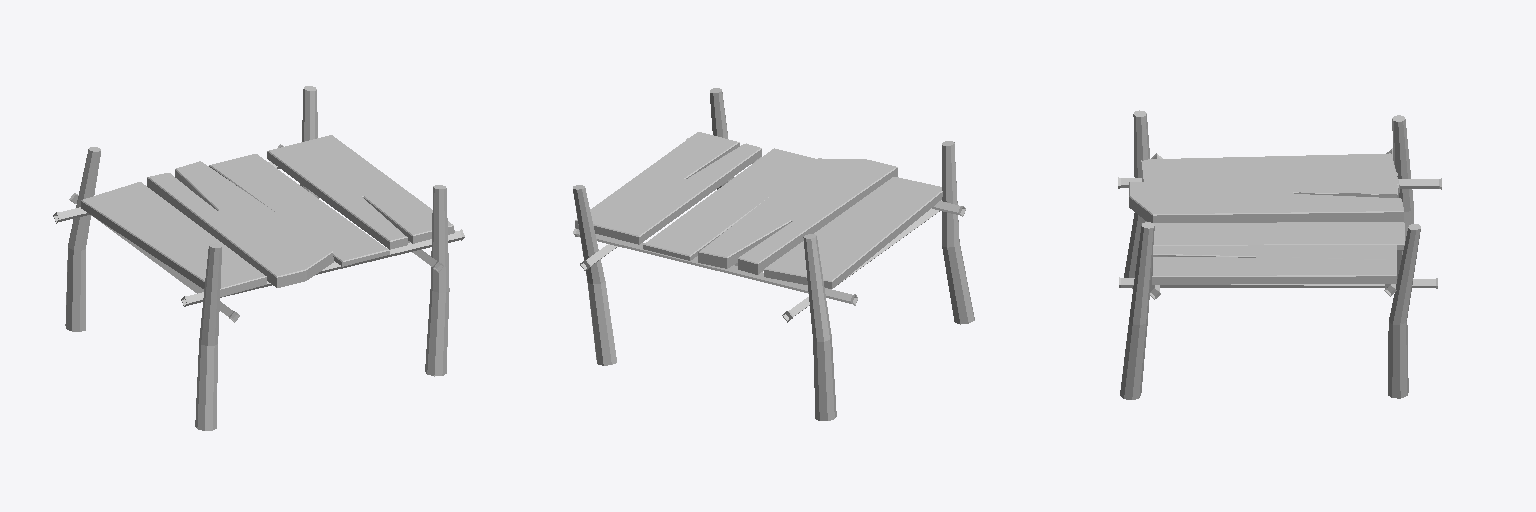
Rendered from BridgeEnd.obj.
3 renders of one model, left to right at view 1: azimuth 30°, elevation 25°; view 2: azimuth 150°, elevation 25°; view 3: azimuth 270°, elevation 25°, orthographic.
Visible parts, largest first — view 1: Object003; view 2: Object003; view 3: Object003.
Part boxes in pixels (x1,y1,x2,y2): Object003: (53,86,464,430); Object003: (573,88,974,420); Object003: (1118,110,1441,399).
Bounding box in the file's own units: 3.15 × 1.87 × 3.08.